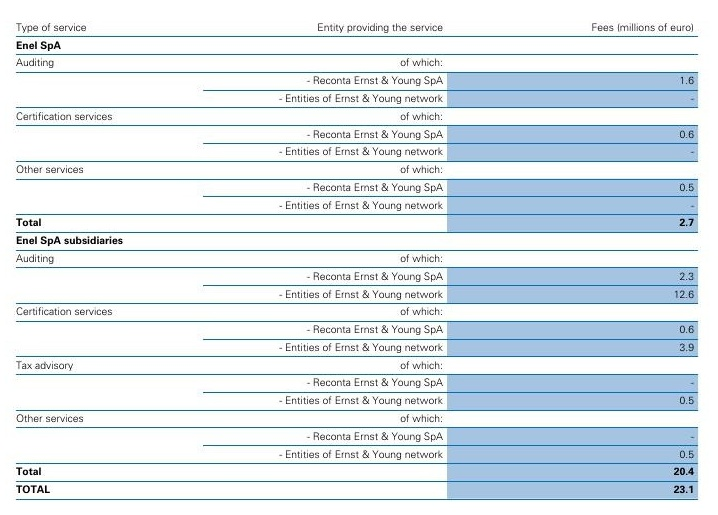table: (0, 0, 718, 515)
